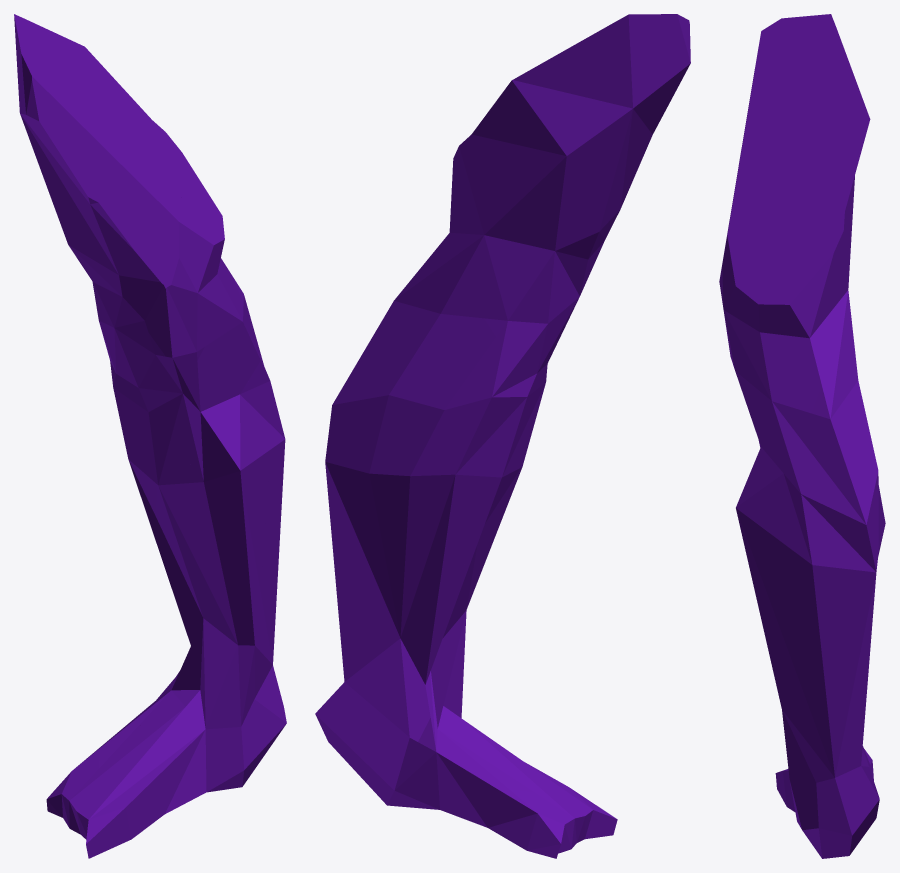
Rendered from TheMan_3_chunks.fbx.
The picture shows the model from 3 angles, left to right: view 1: azimuth 30°, elevation 25°; view 2: azimuth 150°, elevation 25°; view 3: azimuth 270°, elevation 25°; orthographic projection. The views are drawn at different scales.
Visible parts, largest first — view 1: TheMan_3_9, TheMan_3_12, TheMan_3_1, TheMan_3_2, TheMan_3_10, TheMan_3_6, TheMan_3_11, TheMan_3_4, TheMan_3_3, TheMan_3_5, TheMan_3_7, TheMan_3_8 (+1 smaller); view 2: TheMan_3_9, TheMan_3_0, TheMan_3_2, TheMan_3_3, TheMan_3_6, TheMan_3_4, TheMan_3_11, TheMan_3_10, TheMan_3_8, TheMan_3_5, TheMan_3_7; view 3: TheMan_3_9, TheMan_3_3, TheMan_3_10, TheMan_3_0, TheMan_3_2, TheMan_3_1, TheMan_3_12, TheMan_3_6.
Boxes of the visible parts, x1,y1,x2,y2 form: TheMan_3_9: [14, 14, 215, 272]; TheMan_3_12: [99, 180, 224, 371]; TheMan_3_1: [186, 397, 270, 657]; TheMan_3_2: [176, 609, 286, 793]; TheMan_3_10: [110, 205, 260, 481]; TheMan_3_6: [47, 719, 202, 858]; TheMan_3_11: [87, 273, 185, 457]; TheMan_3_4: [156, 361, 262, 611]; TheMan_3_3: [257, 365, 285, 643]; TheMan_3_5: [46, 748, 100, 818]; TheMan_3_7: [137, 467, 192, 736]; TheMan_3_8: [119, 677, 184, 731]; TheMan_3_9: [451, 14, 690, 297]; TheMan_3_0: [325, 268, 520, 547]; TheMan_3_2: [315, 621, 465, 807]; TheMan_3_3: [326, 469, 415, 675]; TheMan_3_6: [405, 735, 617, 858]; TheMan_3_4: [381, 463, 523, 639]; TheMan_3_11: [516, 227, 608, 434]; TheMan_3_10: [417, 200, 531, 462]; TheMan_3_8: [406, 707, 485, 792]; TheMan_3_5: [509, 789, 591, 856]; TheMan_3_7: [458, 462, 522, 735]; TheMan_3_9: [736, 14, 870, 314]; TheMan_3_3: [787, 468, 875, 760]; TheMan_3_10: [739, 295, 853, 491]; TheMan_3_0: [794, 337, 885, 578]; TheMan_3_2: [783, 714, 879, 858]; TheMan_3_1: [736, 474, 798, 719]; TheMan_3_12: [719, 178, 788, 381]; TheMan_3_6: [775, 769, 795, 811].
Size of the model in its own units: 478 by 1246 by 249.
